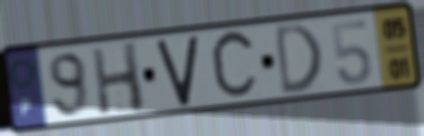5: (329, 17, 374, 88)
9: (46, 51, 92, 117)
C: (208, 26, 261, 105)
D: (272, 20, 324, 99)
H: (88, 39, 148, 118)
V: (154, 32, 201, 109)
